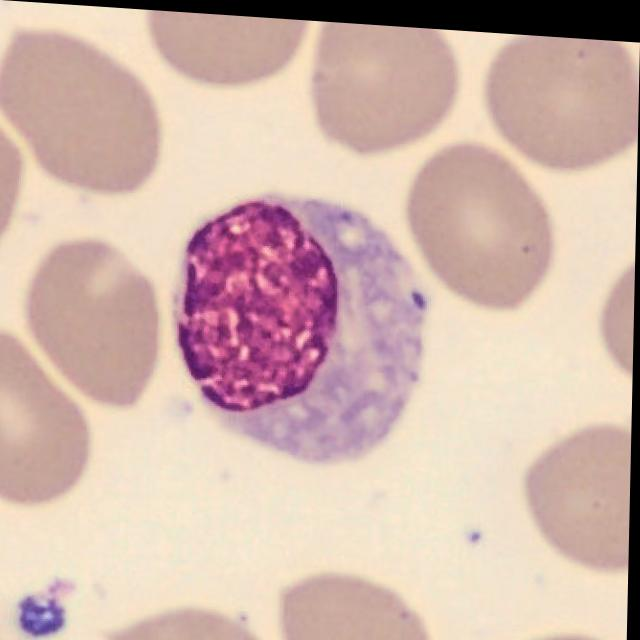Monocito: (180, 197, 424, 453)
